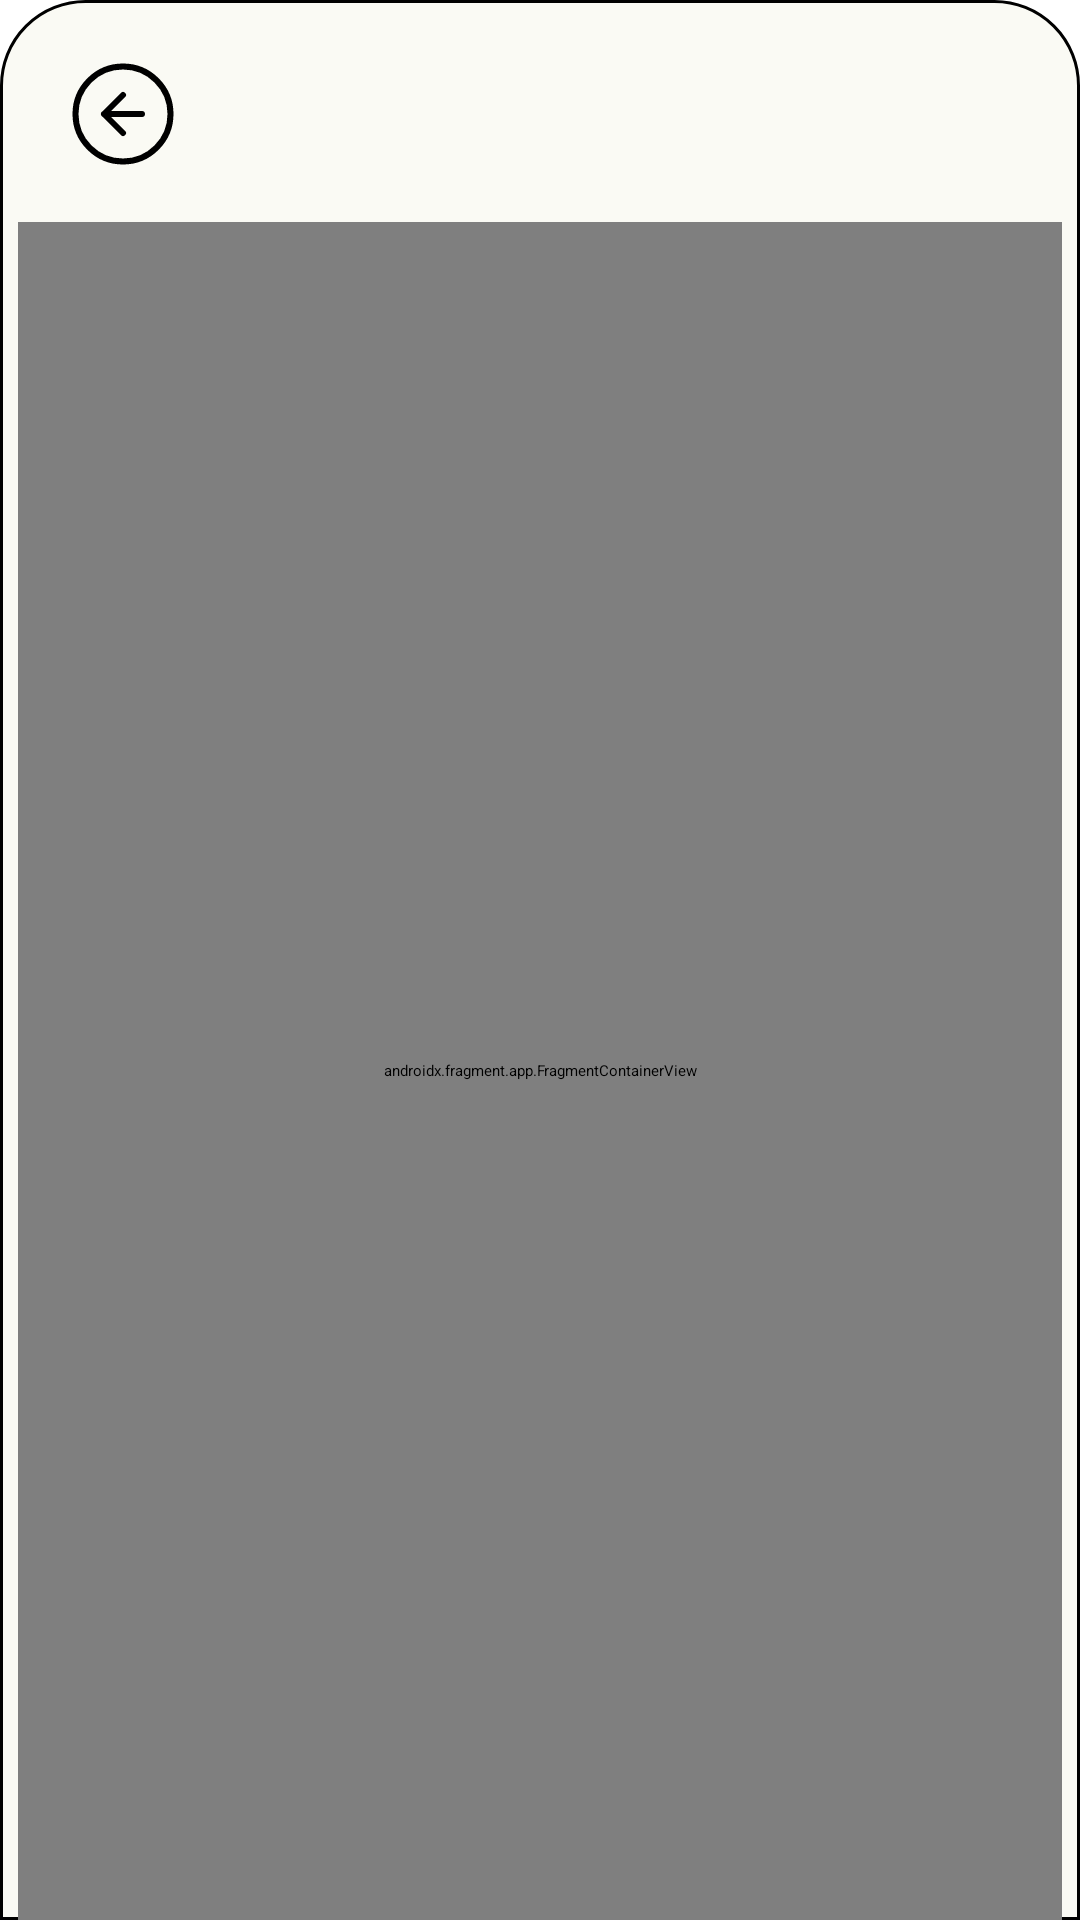

Screen size 1080x1920. Icon name, then its box in pixels as box=[x1, y1, x2, y2]:
Иконка закрытия окна добавления состояния: box=[72, 63, 174, 165]
